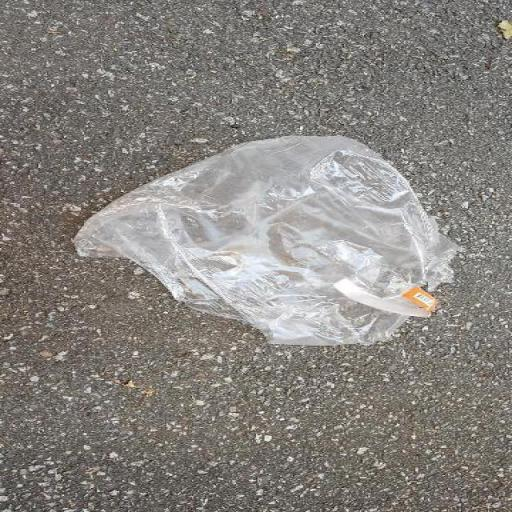plastic-bag: (64, 130, 472, 350)
